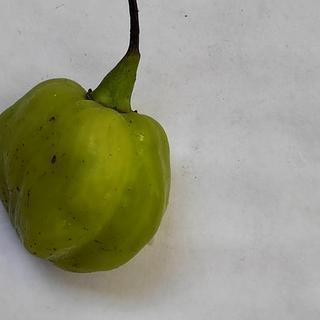Fly-bites: (43, 111, 64, 128), (47, 150, 61, 166), (124, 117, 140, 128), (91, 237, 102, 246), (14, 185, 23, 195), (66, 236, 73, 243), (71, 216, 78, 222), (37, 231, 42, 237), (52, 247, 57, 252), (33, 241, 37, 246)
